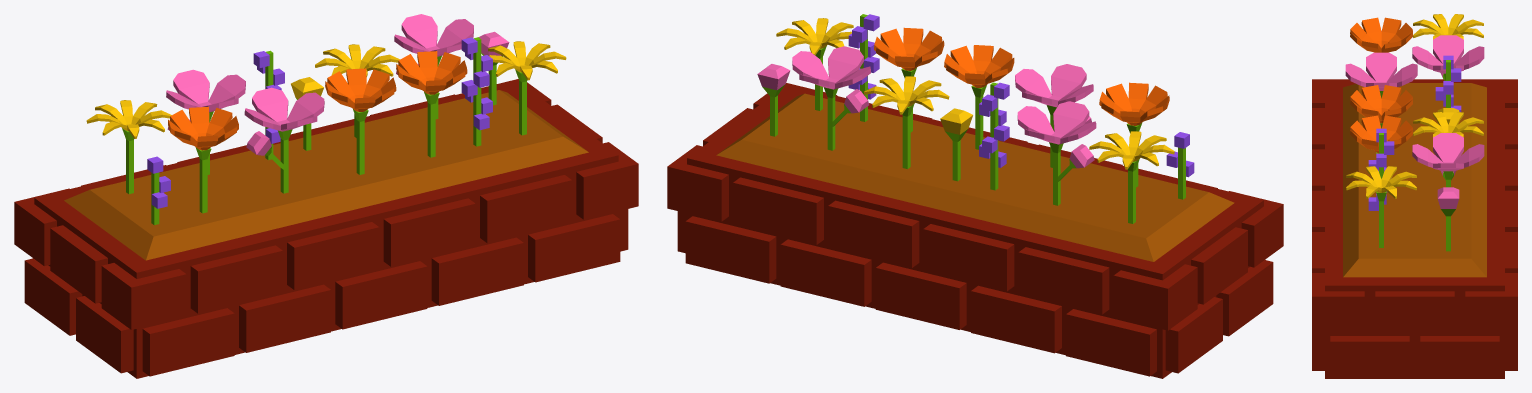
Rendered from FlowerBed_01.fbx.
3 renders of one model, left to right at view 1: azimuth 30°, elevation 25°; view 2: azimuth 150°, elevation 25°; view 3: azimuth 270°, elevation 25°, orthographic. The views are drawn at different scales.
Visible parts, largest first — view 1: FlowerBed, Flower_02_Bloom_2, Flower_03_Bloom_2, Flower_03_Bloom_3, Flower_03_Bloom_1, Flower_02_Bloom_1, Flower_02_Bloom_3, Flower_01_Bloom_1, Flower_01_Bloom_3, Flower_04_Bloom_2, Flower_01_Bloom_2, Flower_04_Bloom_1 (+3 smaller); view 2: FlowerBed, Flower_02_Bloom_3, Flower_02_Bloom_1, Flower_03_Bloom_2, Flower_02_Bloom_2, Flower_03_Bloom_3, Flower_03_Bloom_1, Flower_01_Bloom_2, Flower_01_Bloom_1, Flower_04_Bloom_1, Flower_01_Bloom_3, Flower_04_Bloom_2 (+3 smaller); view 3: FlowerBed, Flower_02_Bloom_3, Flower_02_Bloom_2, Flower_02_Bloom_1, Flower_03_Bloom_1, Flower_03_Bloom_2, Flower_01_Bloom_3, Flower_03_Bloom_3, Flower_01_Bloom_1, Flower_01_Bloom_2, Flower_04_Bloom_2, Flower_04_Bloom_1 (+1 smaller).
Boxes of the visible parts, box(x1,y1,x2,y2) form: FlowerBed: box(14, 79, 638, 378); Flower_02_Bloom_2: box(244, 87, 324, 193); Flower_03_Bloom_2: box(325, 68, 396, 174); Flower_03_Bloom_3: box(396, 51, 467, 157); Flower_03_Bloom_1: box(168, 106, 238, 213); Flower_02_Bloom_1: box(166, 69, 245, 174); Flower_02_Bloom_3: box(394, 14, 473, 119); Flower_01_Bloom_1: box(86, 100, 171, 194); Flower_01_Bloom_3: box(488, 41, 566, 135); Flower_04_Bloom_2: box(461, 37, 492, 146); Flower_01_Bloom_2: box(315, 44, 399, 137); Flower_04_Bloom_1: box(253, 50, 284, 160); FlowerBed: box(667, 83, 1283, 378); Flower_02_Bloom_3: box(792, 46, 870, 150); Flower_02_Bloom_1: box(1017, 101, 1096, 205); Flower_03_Bloom_2: box(944, 45, 1014, 149); Flower_02_Bloom_2: box(1015, 64, 1093, 167); Flower_03_Bloom_3: box(874, 27, 944, 132); Flower_03_Bloom_1: box(1099, 82, 1169, 187); Flower_01_Bloom_2: box(864, 76, 949, 168); Flower_01_Bloom_1: box(1089, 131, 1174, 223); Flower_04_Bloom_1: box(979, 82, 1009, 190); Flower_01_Bloom_3: box(776, 18, 853, 110); Flower_04_Bloom_2: box(848, 14, 879, 121); FlowerBed: box(1312, 79, 1517, 378); Flower_02_Bloom_3: box(1412, 133, 1484, 187); Flower_02_Bloom_2: box(1345, 52, 1417, 98); Flower_02_Bloom_1: box(1412, 35, 1484, 80); Flower_03_Bloom_1: box(1350, 17, 1412, 52); Flower_03_Bloom_2: box(1350, 85, 1412, 128); Flower_01_Bloom_3: box(1346, 166, 1416, 247); Flower_03_Bloom_3: box(1350, 115, 1412, 153); Flower_01_Bloom_1: box(1413, 14, 1483, 39); Flower_01_Bloom_2: box(1413, 112, 1483, 137); Flower_04_Bloom_2: box(1368, 128, 1394, 210); Flower_04_Bloom_1: box(1435, 55, 1461, 111).
Size of the model in its own units: 200 by 85 by 80.
